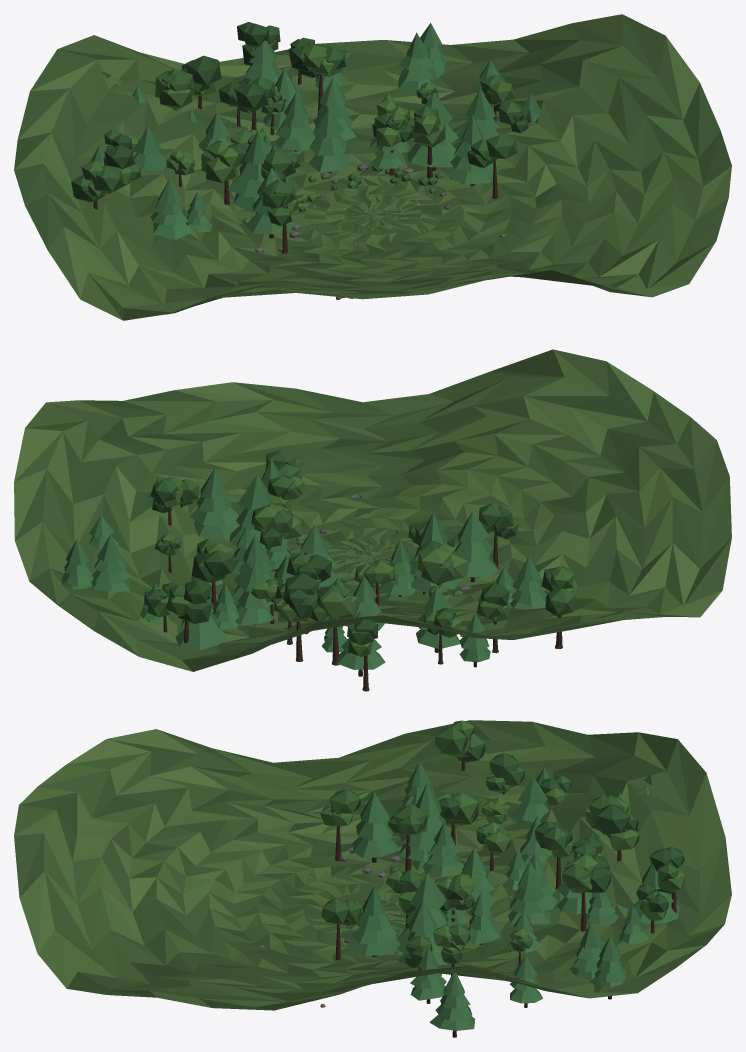
The model's file is env_thicket.glb.
3 views of the same model, one above another, from view 1: azimuth 30°, elevation 25°; view 2: azimuth 150°, elevation 25°; view 3: azimuth 270°, elevation 25° (orthographic).
Parts seen in each view (by area): view 1: thicket; view 2: thicket; view 3: thicket.
Boxes of the visible parts, bbox=[...] form: thicket: bbox=[14, 14, 731, 320]; thicket: bbox=[14, 349, 731, 691]; thicket: bbox=[14, 720, 731, 1037].
Size of the model in its own units: 67.81 by 10.06 by 68.04.
